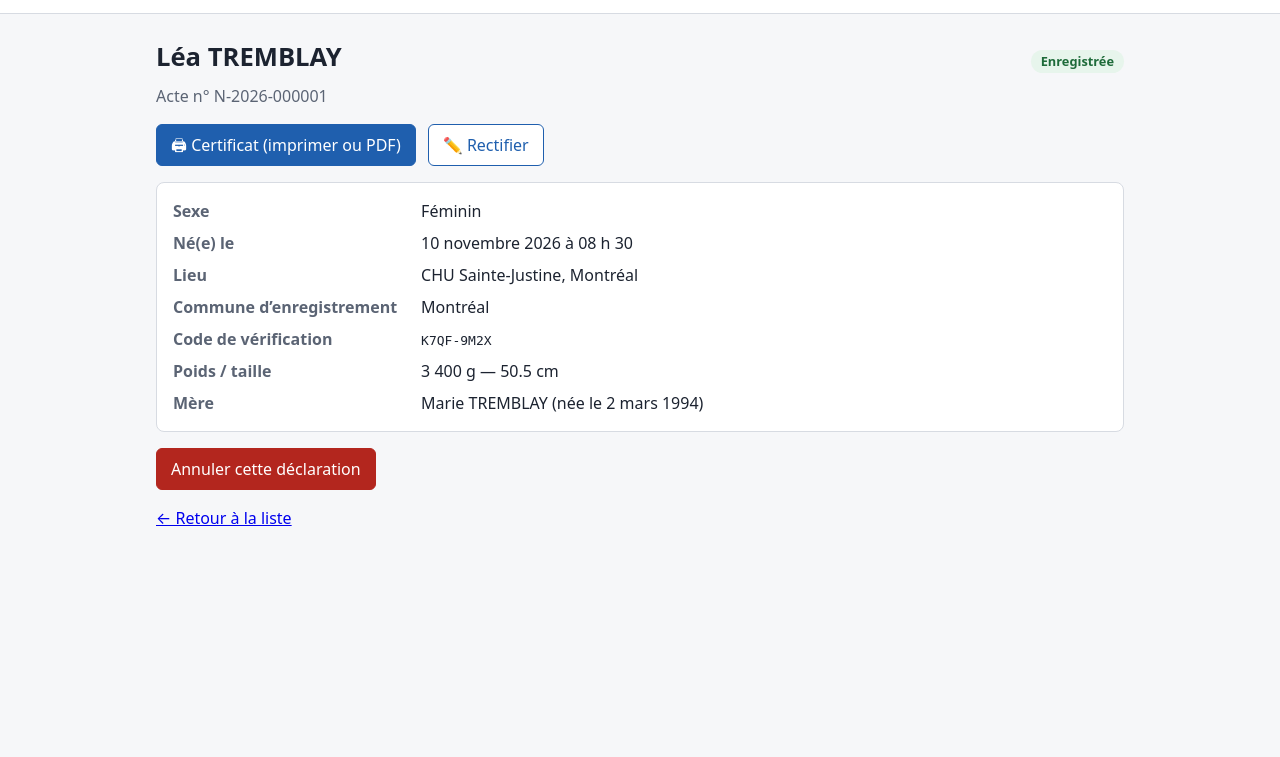
Test: Rectification d’un acte › ouvre le formulaire prérempli depuis la fiche
The image size is (1280, 757).
What coordinates should you click on to do the following:
click the link "✏️ Rectifier"
I would click on:
 (486, 145)
Its box is [428,124,544,166].
(page scrolled)
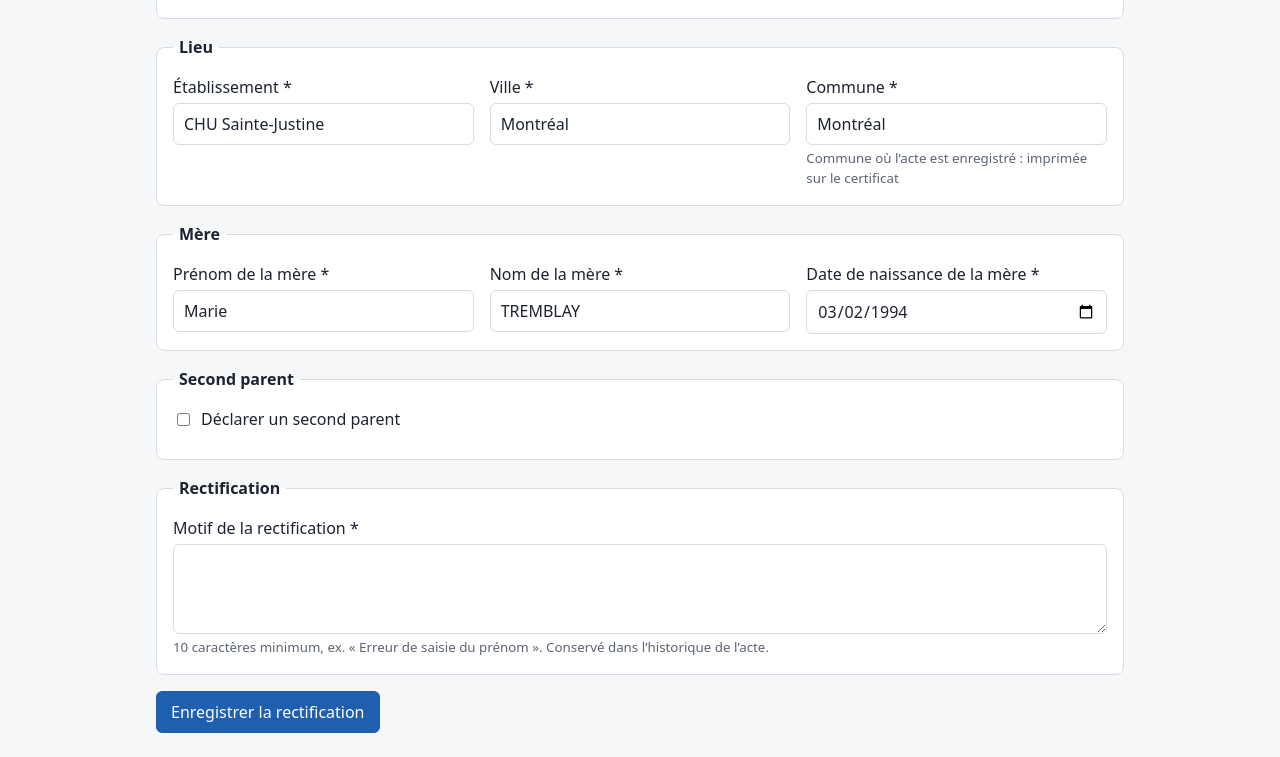
Expected: the field labelled "Commune *" holds "Montréal", [806,103,1107,145]
Expected: the button "Enregistrer la rectification" is shown, [156,691,380,733]
